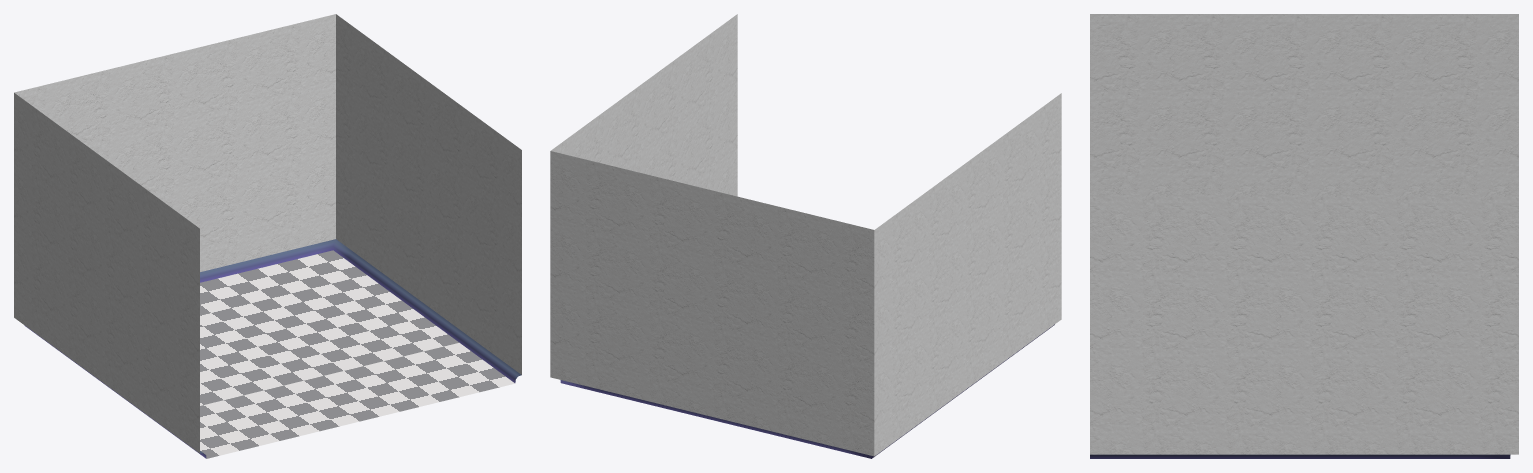
File: airport.glb
3 views of the same model, side by side, from view 1: azimuth 30°, elevation 25°; view 2: azimuth 150°, elevation 25°; view 3: azimuth 270°, elevation 25° (orthographic). The views are drawn at different scales.
Parts seen in each view (by area): view 1: Plane; view 2: Plane; view 3: Plane.
Boxes of the visible parts, x1,y1,x2,y2 form: Plane: (14, 14, 521, 458); Plane: (550, 14, 1061, 458); Plane: (1090, 14, 1518, 458).
Size of the model in its own units: 20 by 13.77 by 20.
3 materials, 3 textured.
